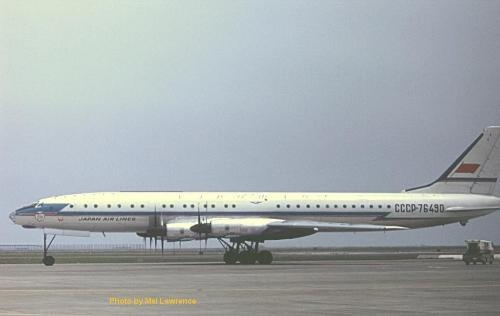airplane: (8, 126, 500, 268)
